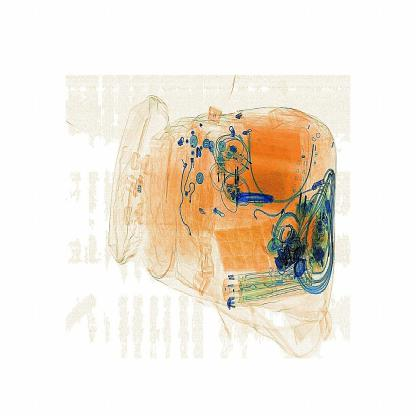knife: (233, 184, 278, 215)
